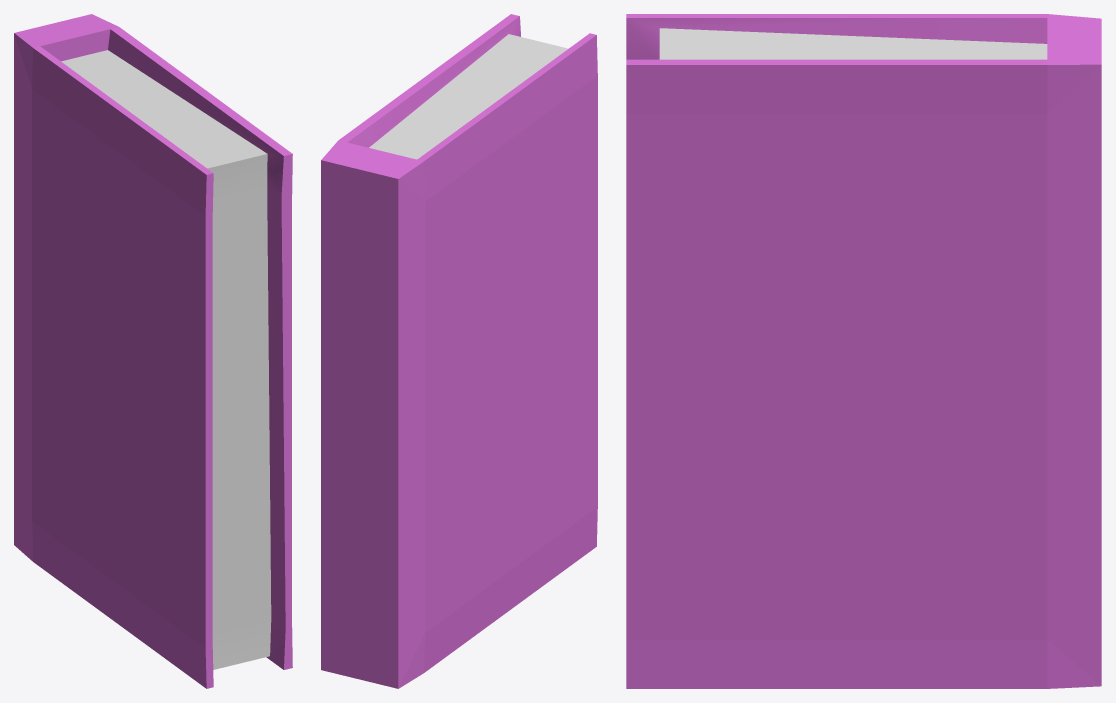
The model's file is Midium_Book_Pink.fbx.
3 renders of one model, left to right at view 1: azimuth 30°, elevation 25°; view 2: azimuth 150°, elevation 25°; view 3: azimuth 270°, elevation 25°, orthographic. The views are drawn at different scales.
Visible parts, largest first — view 1: Book2; view 2: Book2; view 3: Book2.
Boxes of the visible parts, x1,y1,x2,y2 form: Book2: (14,14,292,688); Book2: (321,14,597,688); Book2: (626,14,1101,688).
Bounding box in the file's own units: 0.0687 × 0.3868 × 0.267.
